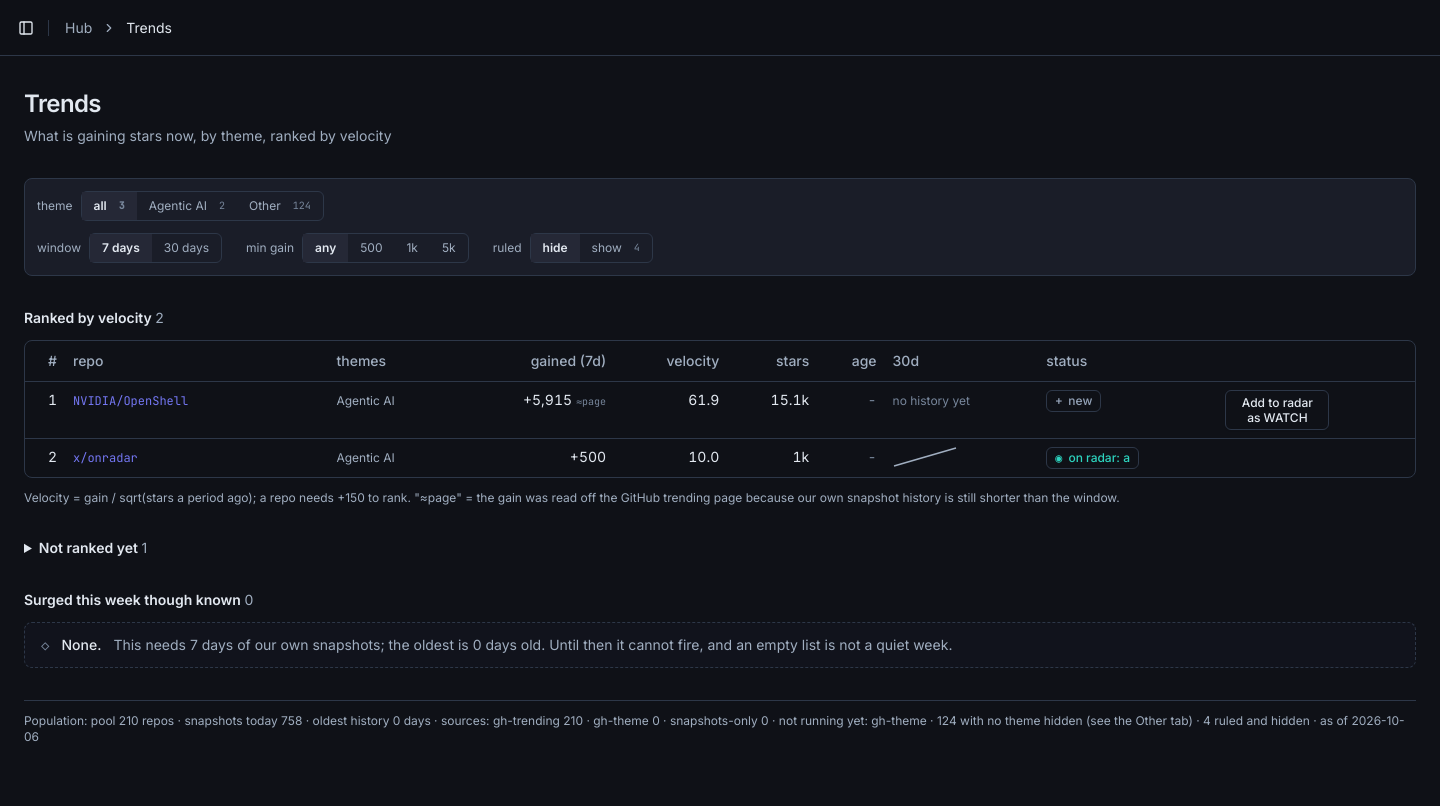
Test: the trends page › insufficient history is a word in its own list, never a 0
Expected: the link "NVIDIA/OpenShell" is shown, [73, 392, 188, 408]
Click the heading "Not ranked yet 1" at (93, 547), box [39, 538, 147, 556]
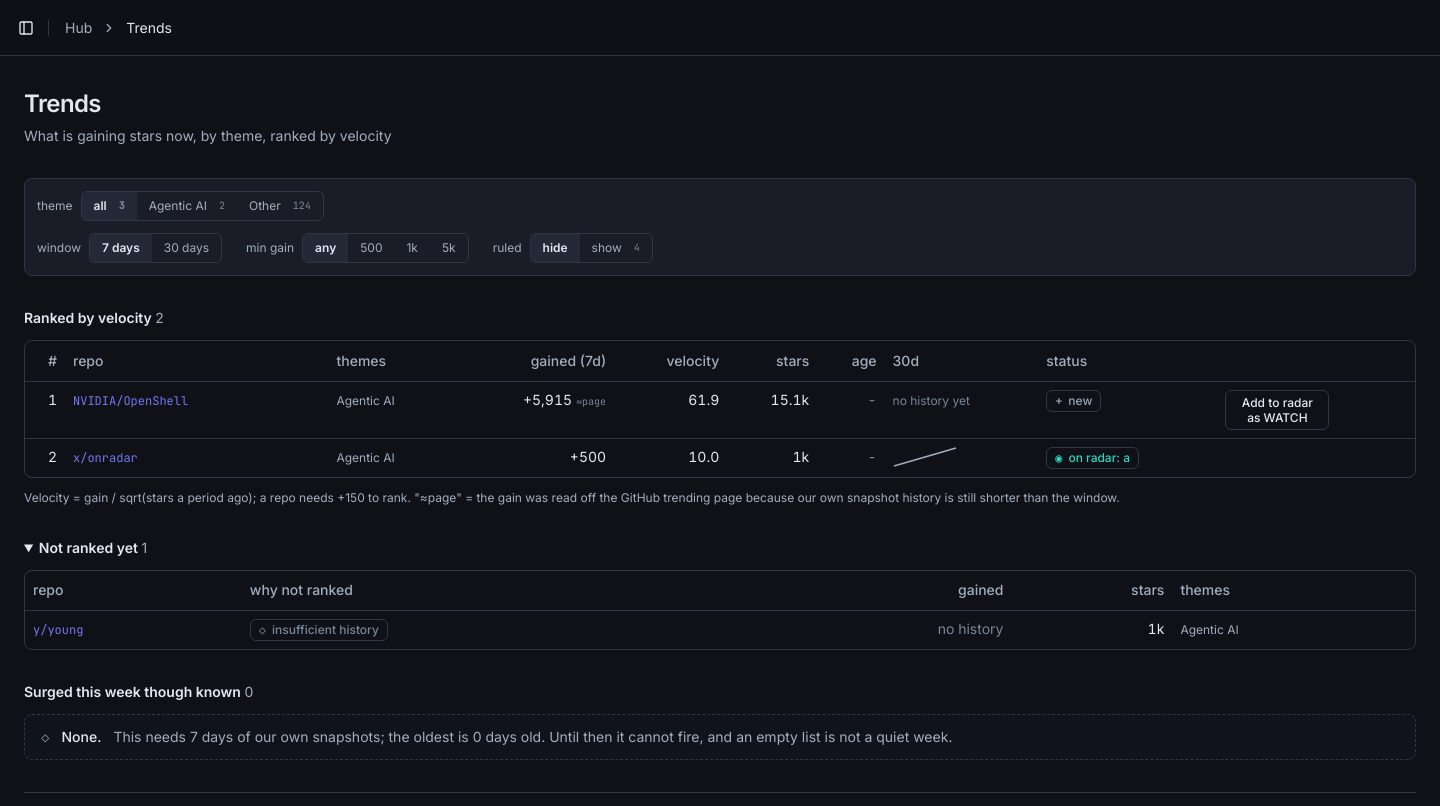
Result: the text "insufficient history" is shown at [272, 622, 379, 638]
